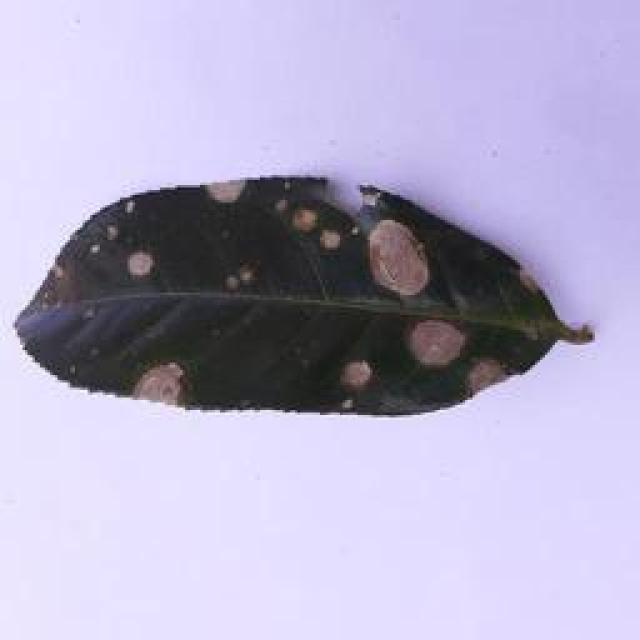Gray Blight: (9, 170, 597, 420)
